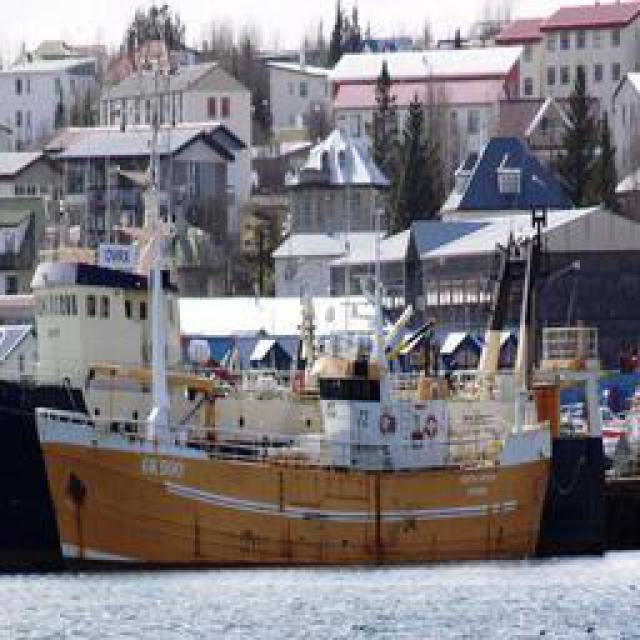Ship: (37, 181, 565, 569)
